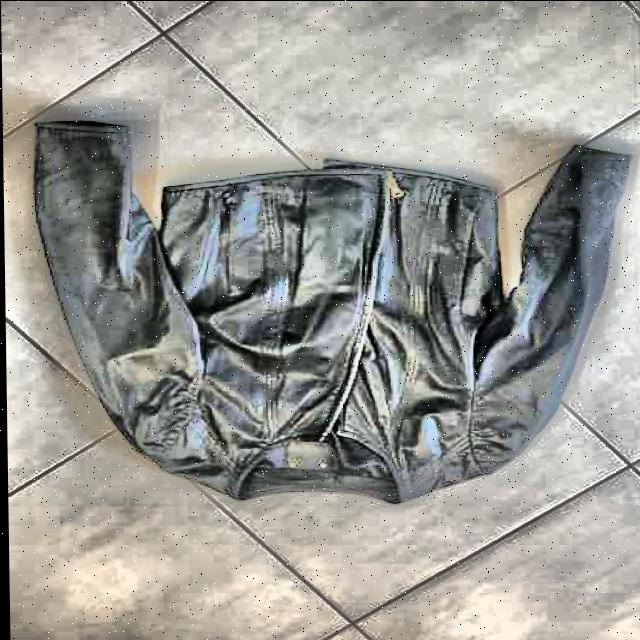clothes: (28, 118, 639, 504)
